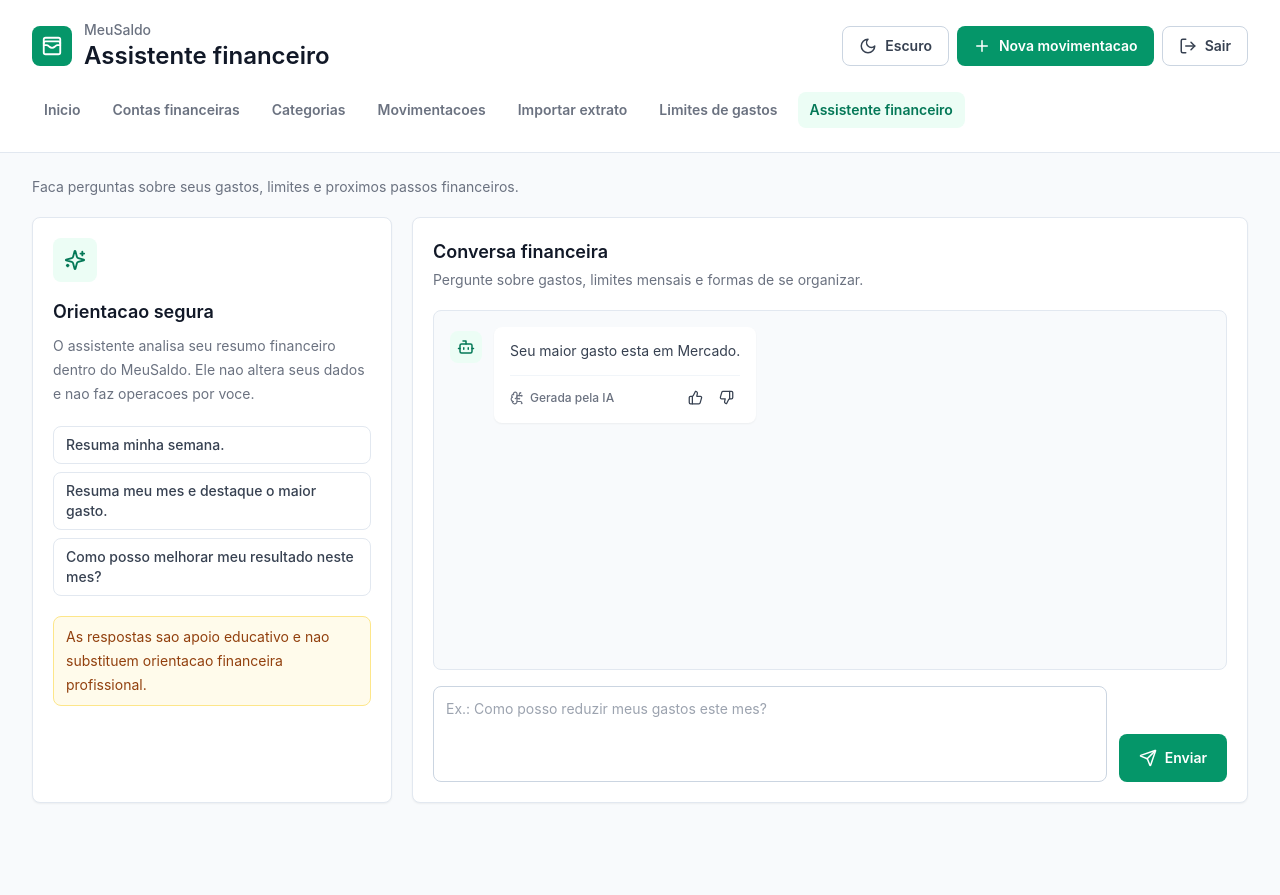
Test: AiAssistantPage › renders the interpreted period and traceable insight cards
Click the button "Resuma minha semana." at point(212, 445), box [53,426,371,464]
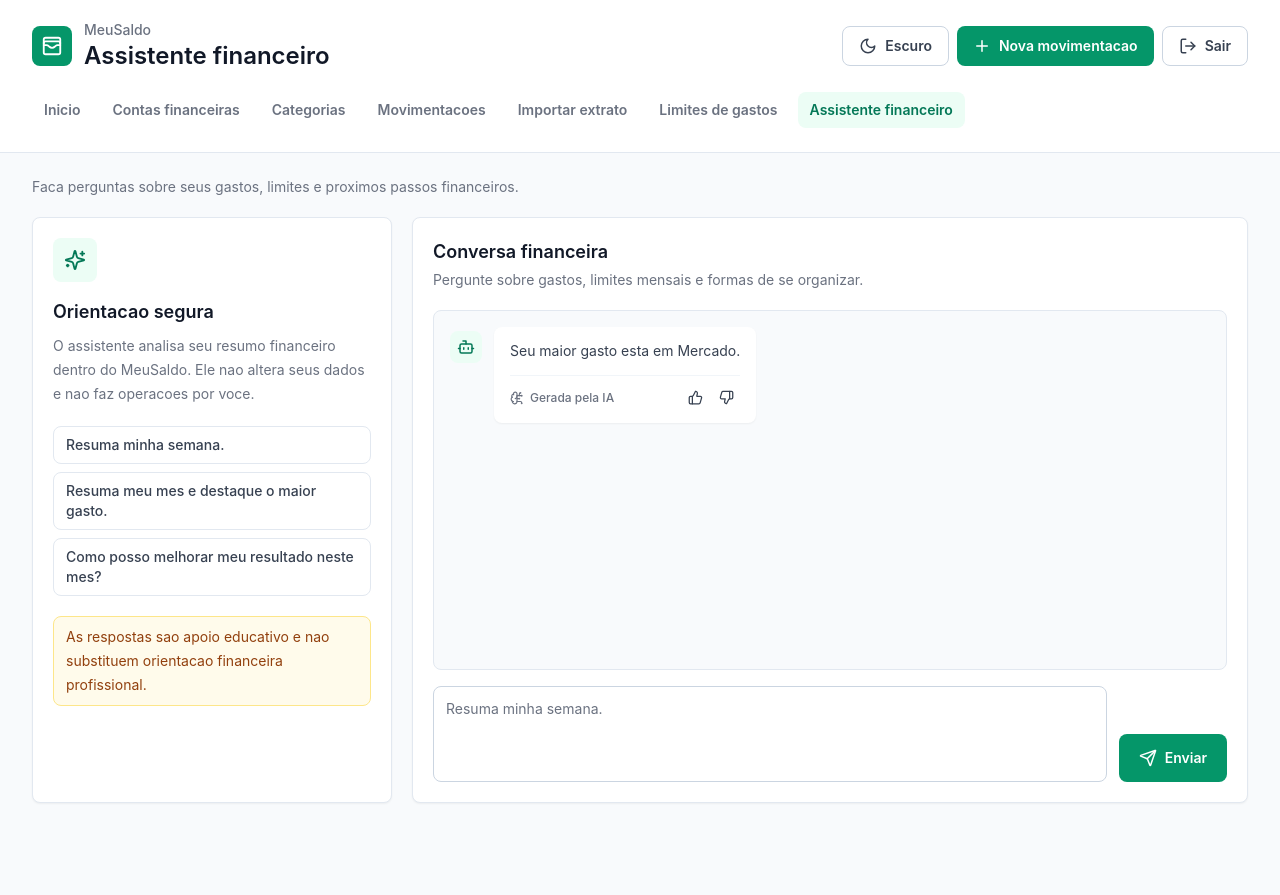
Click the button "Enviar" at point(1173, 758), box [1119,734,1227,782]
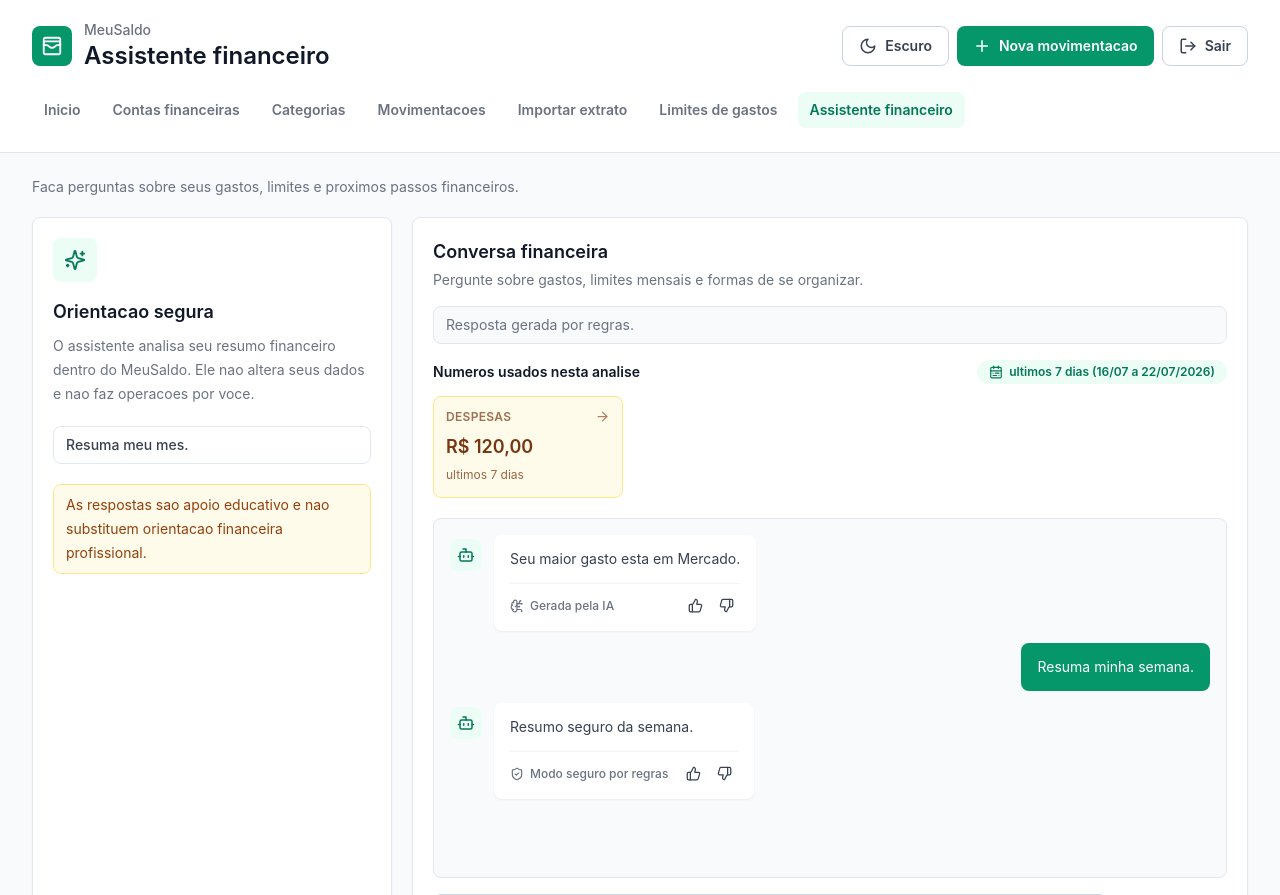
Expected: the text "ultimos 7 dias (16/07 a 22/07/2026)" is shown, [977,360,1227,384]
Expected: the text "R$ 120,00" is shown, [446,436,533,457]
